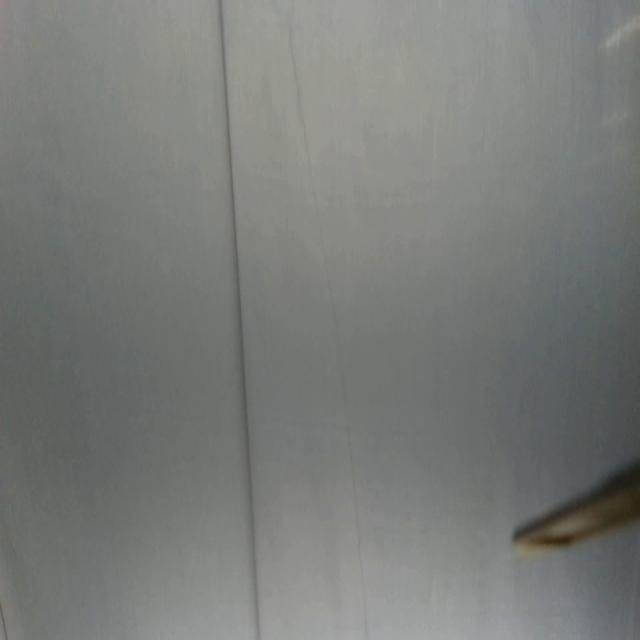crease: (287, 20, 368, 640), (216, 0, 261, 638)
